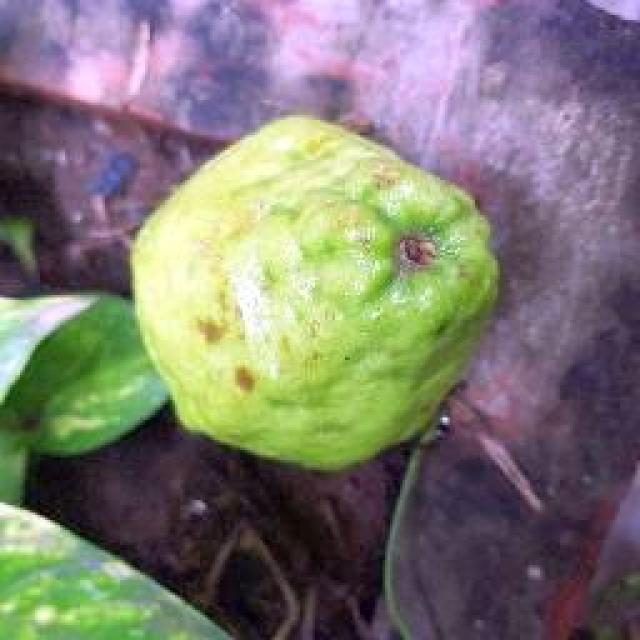Good_Guava: (128, 115, 500, 475)
